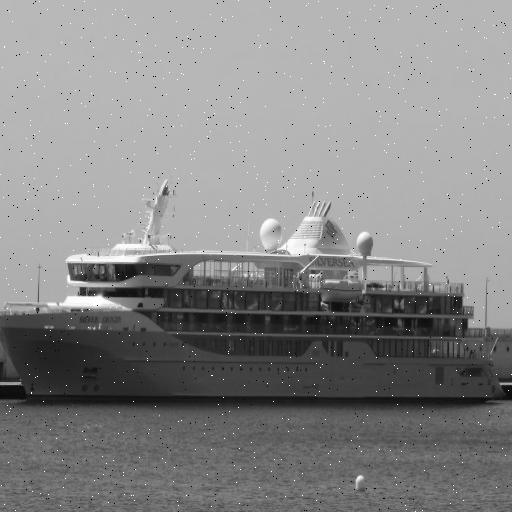cruises: (1, 178, 507, 412)
